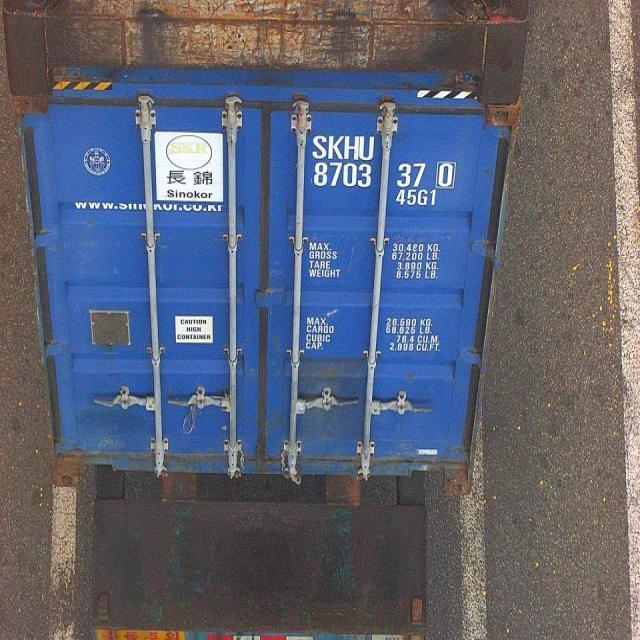ISO: (398, 190, 437, 208)
container_number: (308, 128, 463, 190)
